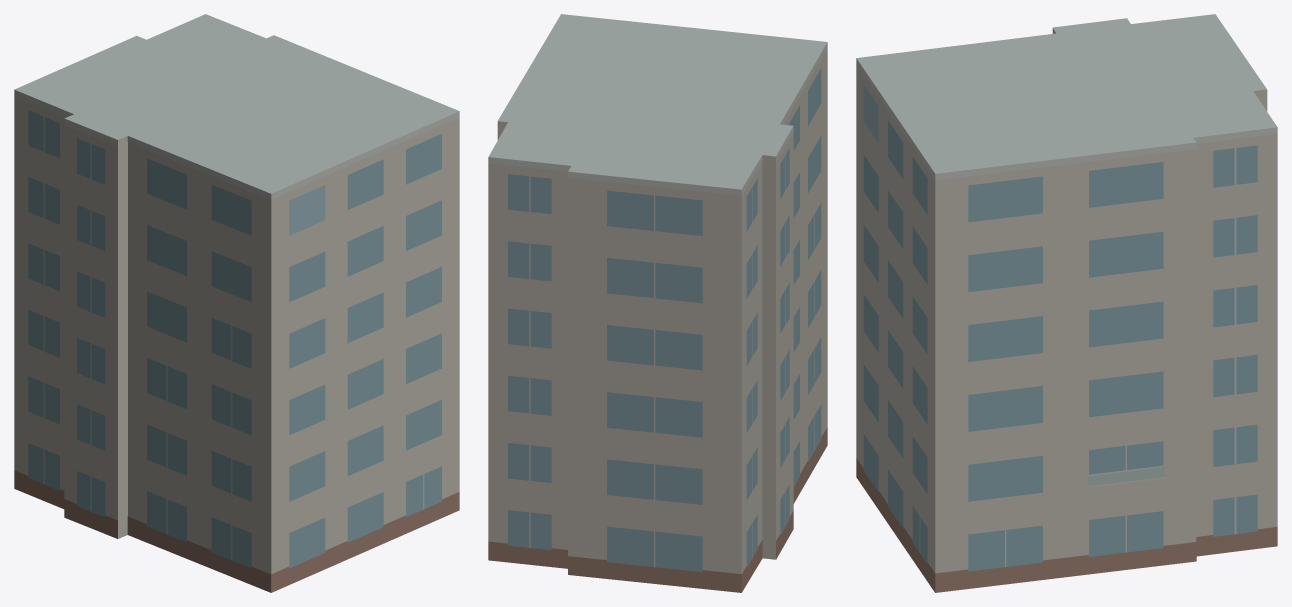
The model's file is survey-upis-33005117.glb.
3 views of the same model, side by side, from view 1: azimuth 30°, elevation 25°; view 2: azimuth 150°, elevation 25°; view 3: azimuth 270°, elevation 25° (orthographic). The views are drawn at different scales.
Visible parts, largest first — view 1: survey-upis-33005117.tmp; view 2: survey-upis-33005117.tmp; view 3: survey-upis-33005117.tmp.
Part boxes in pixels (x1,y1,x2,y2): survey-upis-33005117.tmp: (14,14,459,592); survey-upis-33005117.tmp: (488,14,827,592); survey-upis-33005117.tmp: (856,14,1277,592).
Size of the model in its own units: 12.94 by 15.8 by 14.41.
